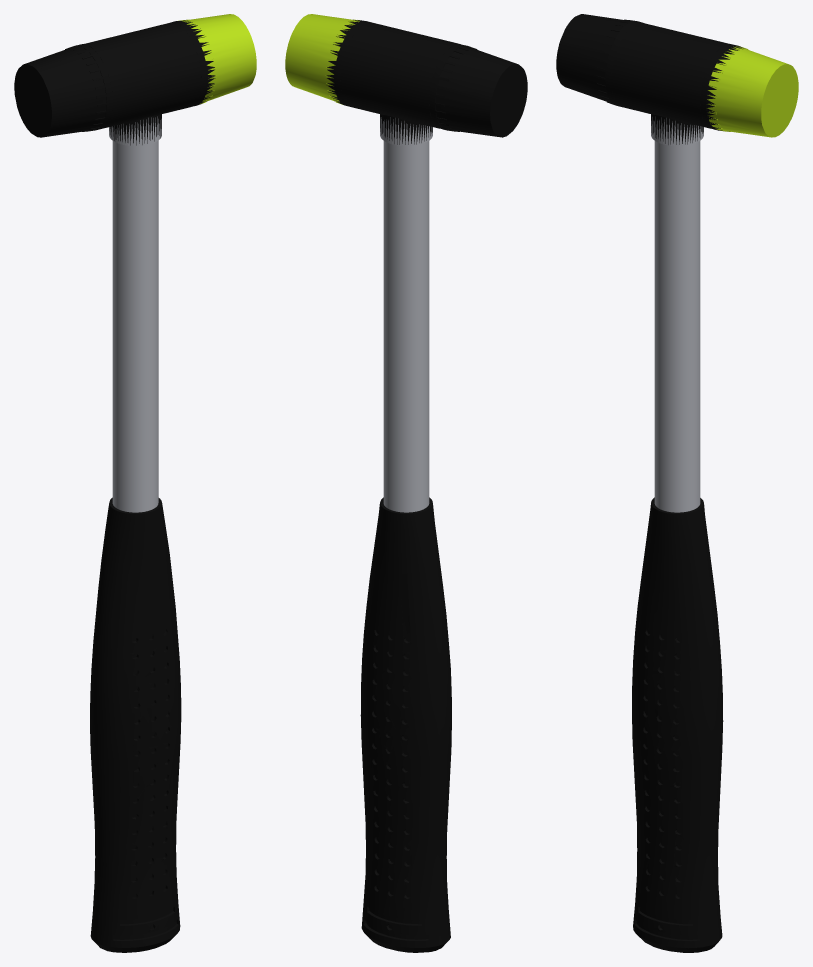
The model's file is rubber_mallet_25mm.dae.
3 views of the same model, side by side, from view 1: azimuth 30°, elevation 25°; view 2: azimuth 150°, elevation 25°; view 3: azimuth 330°, elevation 25° (orthographic).
Parts seen in each view (by area): view 1: node_g0_black, node_g1_chrome, node_g2_lime; view 2: node_g0_black, node_g1_chrome, node_g2_lime; view 3: node_g0_black, node_g1_chrome, node_g2_lime.
Boxes of the visible parts, x1,y1,x2,y2 form: node_g0_black: (14,20,215,952); node_g1_chrome: (109,116,161,512); node_g2_lime: (178,14,256,103); node_g0_black: (326,19,527,952); node_g1_chrome: (380,117,432,512); node_g2_lime: (285,14,359,104); node_g0_black: (556,14,743,952); node_g1_chrome: (651,116,703,512); node_g2_lime: (707,46,798,137).
Size of the model in its own units: 0.067 by 0.0247 by 0.2823.
